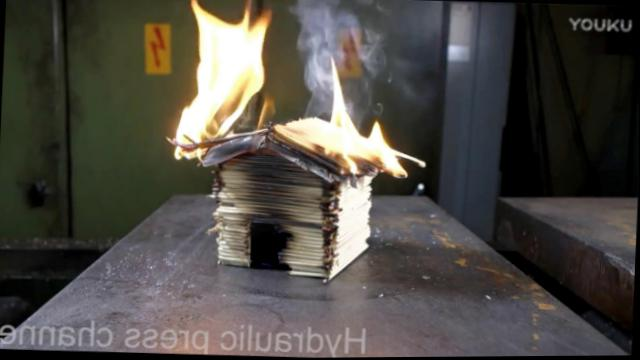fire: (186, 0, 270, 107), (177, 99, 226, 144), (327, 56, 354, 137), (366, 119, 394, 151), (226, 104, 249, 128)
